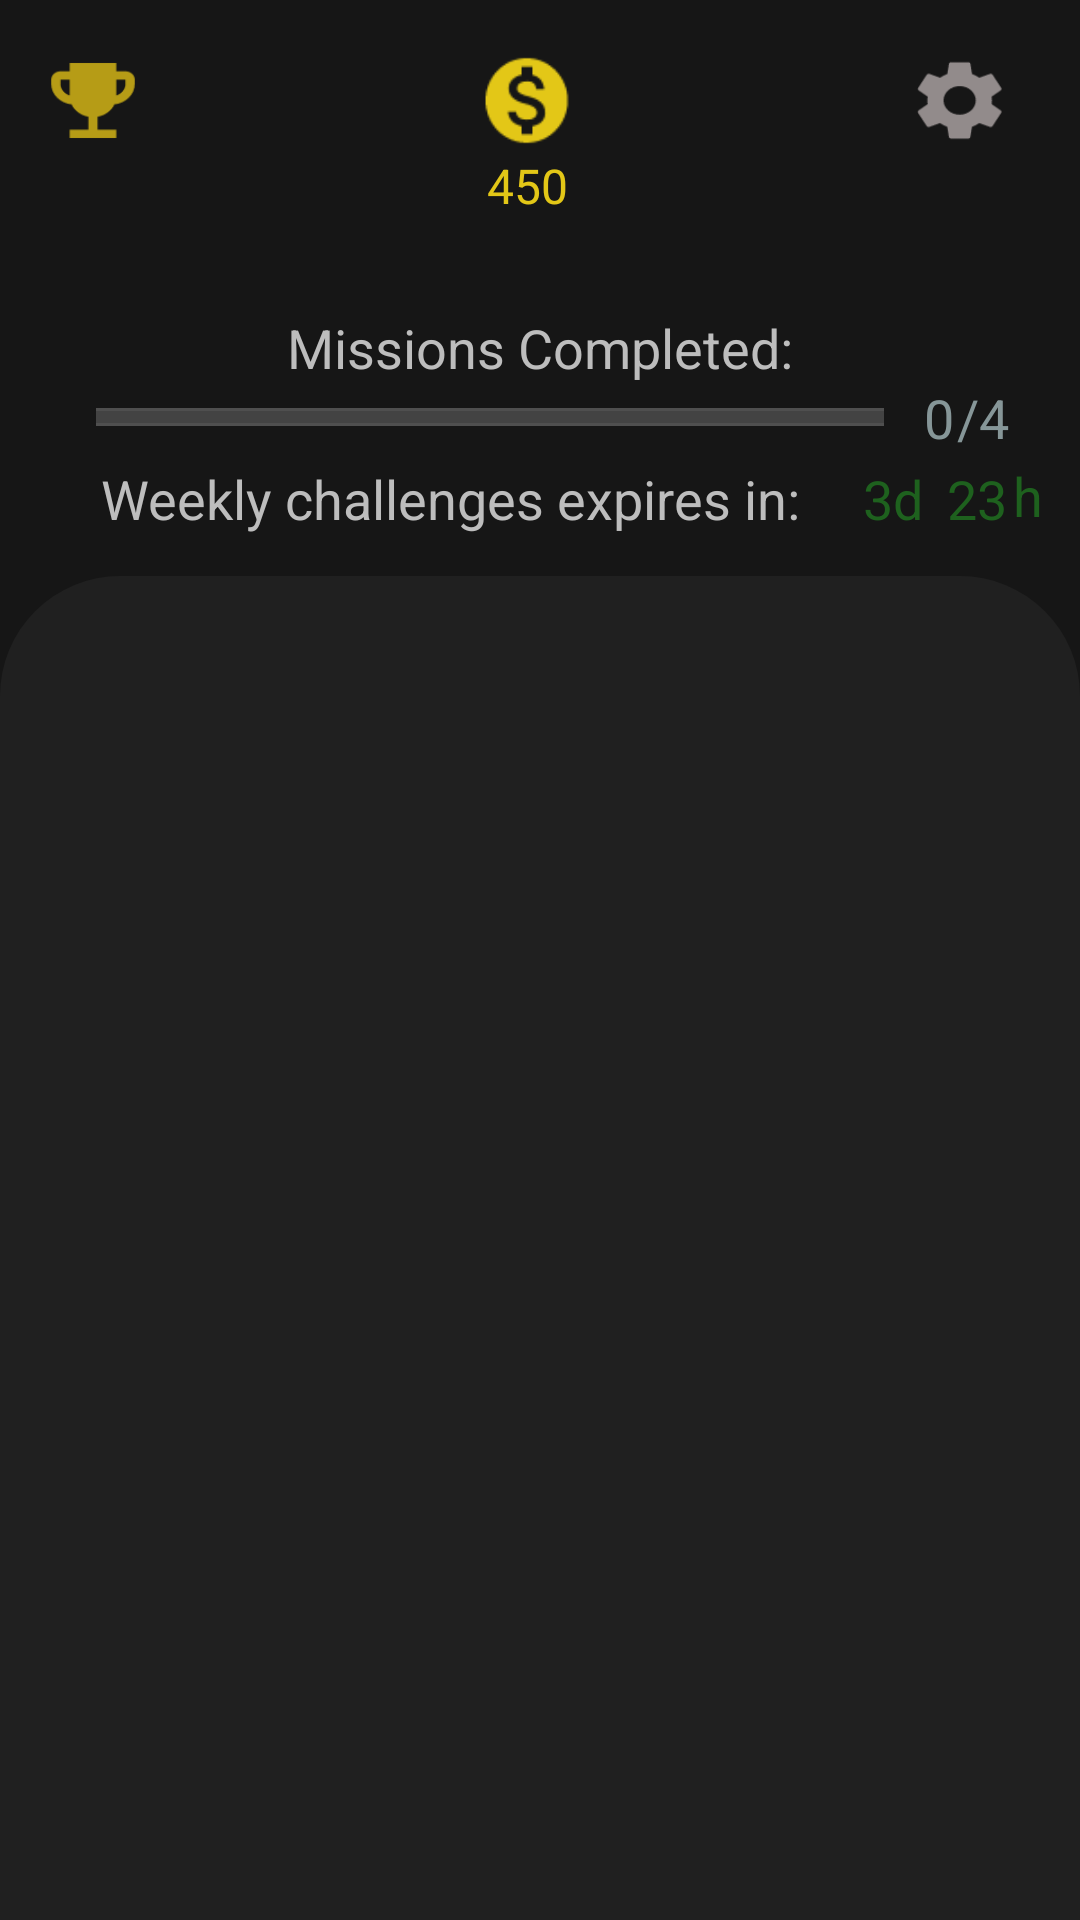

Icon click points for this 1080 x 1920 phone screenshot, format point (x, y):
emoji events: point (93, 100)
monetization on: point (527, 100)
settings: point (960, 100)
